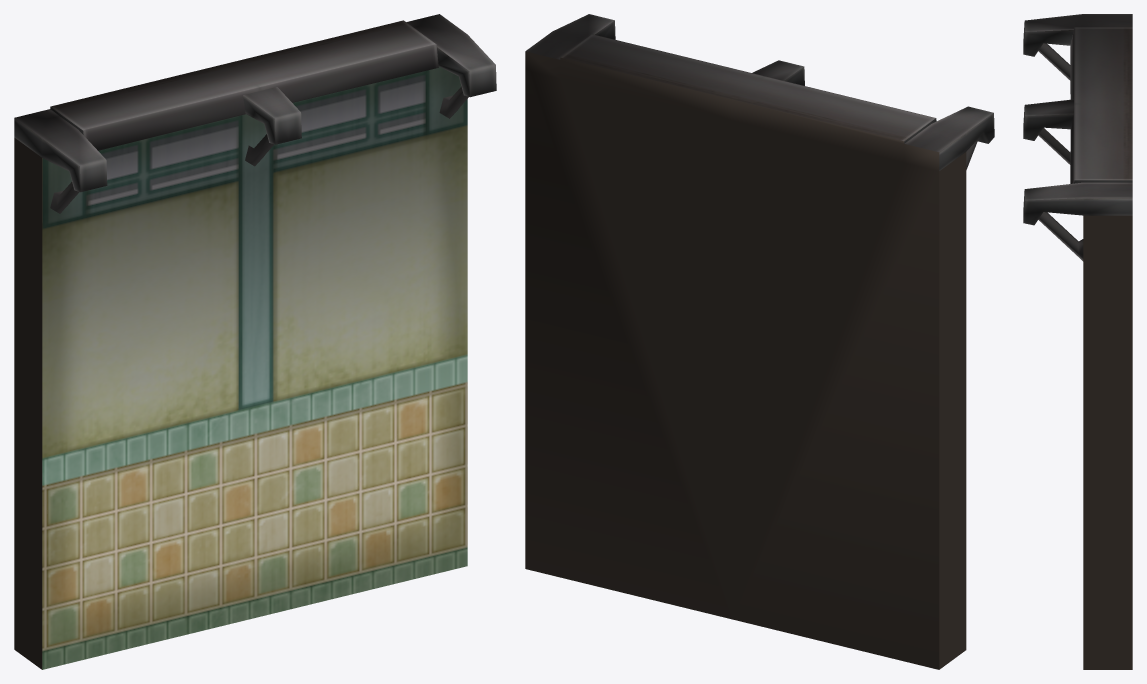
File: a_SWIwashWall01.glb
3 views of the same model, side by side, from view 1: azimuth 30°, elevation 25°; view 2: azimuth 150°, elevation 25°; view 3: azimuth 270°, elevation 25° (orthographic). The views are drawn at different scales.
Parts seen in each view (by area): view 1: a_SWIwashWall01; view 2: a_SWIwashWall01; view 3: a_SWIwashWall01.
Boxes of the visible parts, x1,y1,x2,y2 form: a_SWIwashWall01: (14, 14, 496, 669); a_SWIwashWall01: (525, 14, 994, 669); a_SWIwashWall01: (1023, 14, 1132, 669).
Bounding box in the file's own units: 2.5 × 3 × 0.6285.
2 materials, 2 textured.
